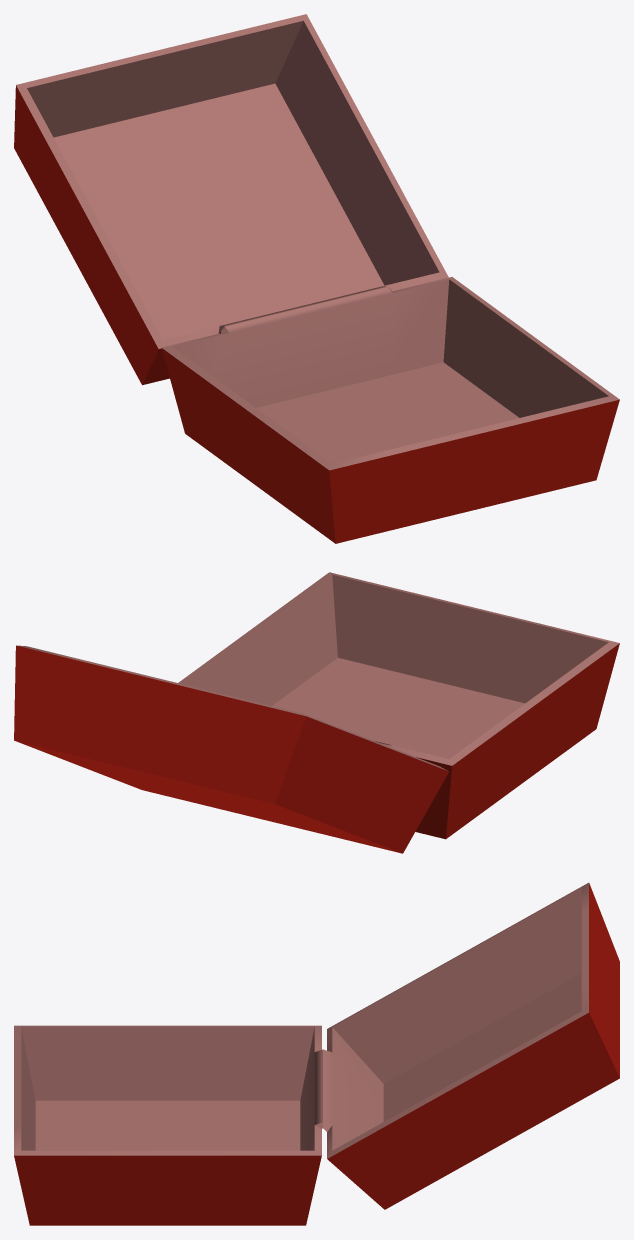
Rendered from Food Court_Burger Box.fbx.
3 renders of one model, top to bottom at view 1: azimuth 30°, elevation 25°; view 2: azimuth 150°, elevation 25°; view 3: azimuth 270°, elevation 25°, orthographic. The views are drawn at different scales.
Parts seen in each view (by area): view 1: pCube40; view 2: pCube40; view 3: pCube40.
Boxes of the visible parts, x1,y1,x2,y2 form: pCube40: [14, 14, 619, 543]; pCube40: [14, 572, 619, 853]; pCube40: [14, 882, 619, 1225].
Size of the model in its own units: 0.4747 by 0.3738 by 0.9343.
